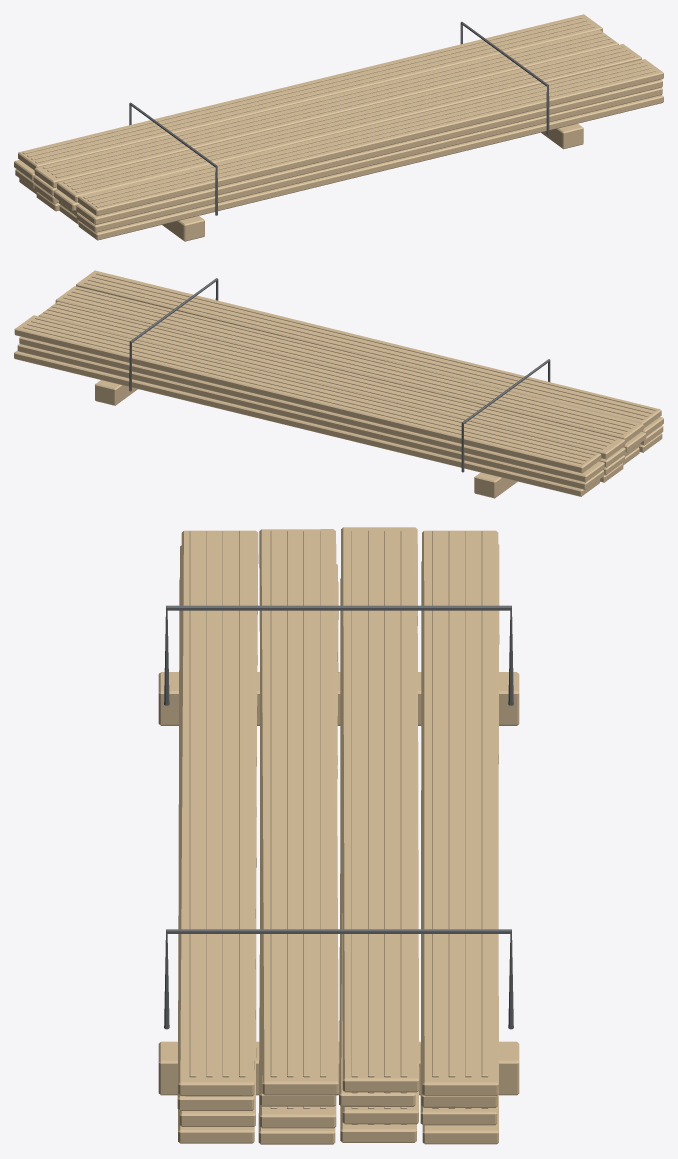
3 views of the same model, one above another, from view 1: azimuth 30°, elevation 25°; view 2: azimuth 150°, elevation 25°; view 3: azimuth 270°, elevation 25° (orthographic). The views are drawn at different scales.
Parts seen in each view (by area): view 1: decking-bundle; view 2: decking-bundle; view 3: decking-bundle.
Boxes of the visible parts, bbox=[...] form: decking-bundle: bbox=[14, 14, 663, 241]; decking-bundle: bbox=[14, 270, 663, 498]; decking-bundle: bbox=[158, 527, 519, 1144].
Size of the model in its own units: 2.42 by 0.2699 by 0.66.
